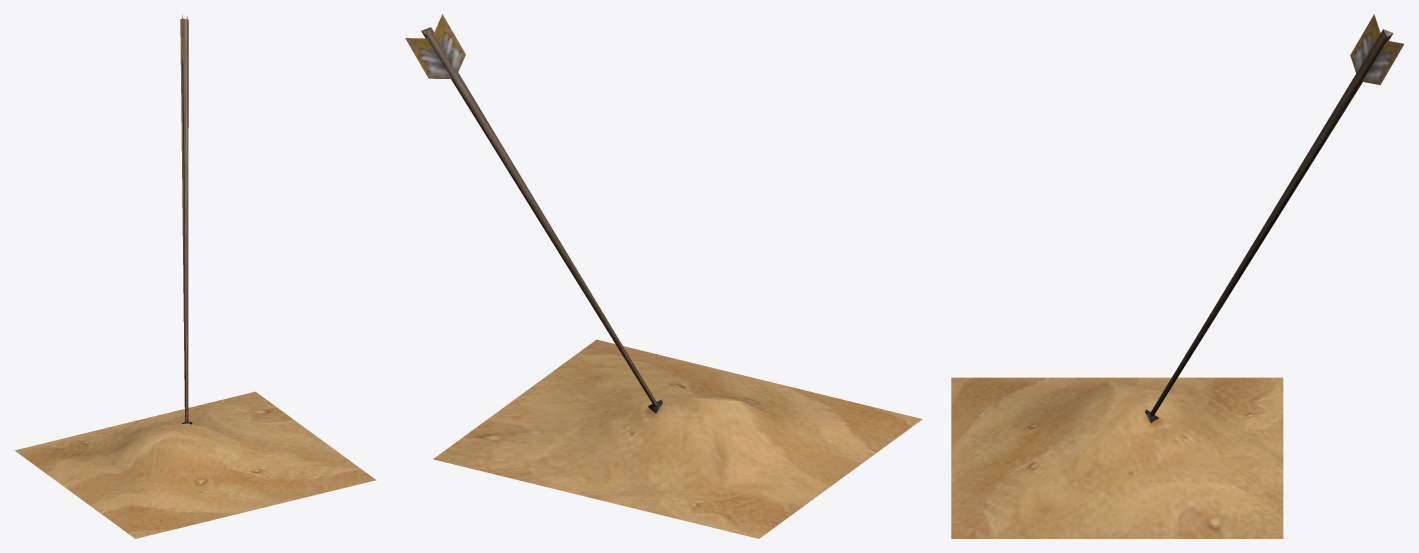
The picture shows the model from 3 angles, left to right: view 1: azimuth 30°, elevation 25°; view 2: azimuth 150°, elevation 25°; view 3: azimuth 270°, elevation 25°; orthographic projection. The views are drawn at different scales.
Parts seen in each view (by area): view 1: 293732; view 2: 293732; view 3: 293732.
Part boxes in pixels (box(x1,y1,x2,y2)): 293732: box(15, 14, 376, 538); 293732: box(405, 14, 922, 538); 293732: box(951, 14, 1403, 538).
Bounding box in the file's own units: 176 × 209 × 254.
